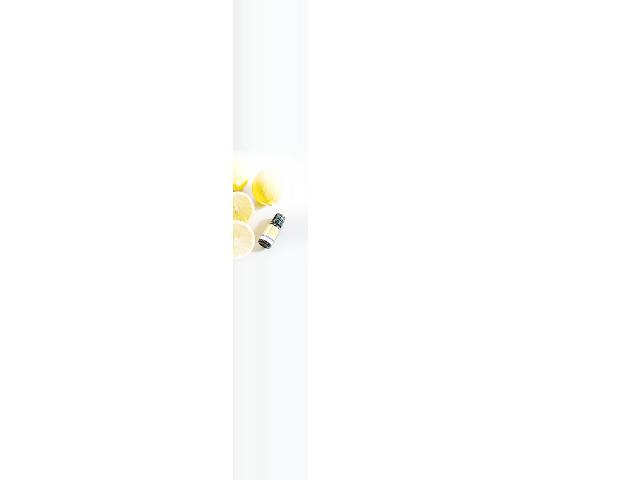lemon: (254, 169, 279, 205)
